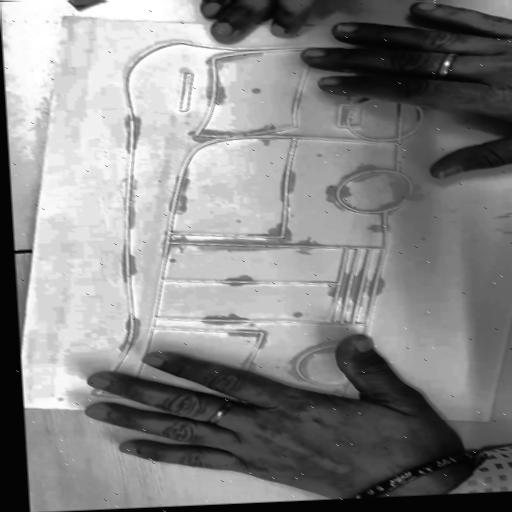bottom_left: (478, 414, 501, 423)
bus: (85, 4, 441, 432)
top_right: (51, 12, 73, 22)
